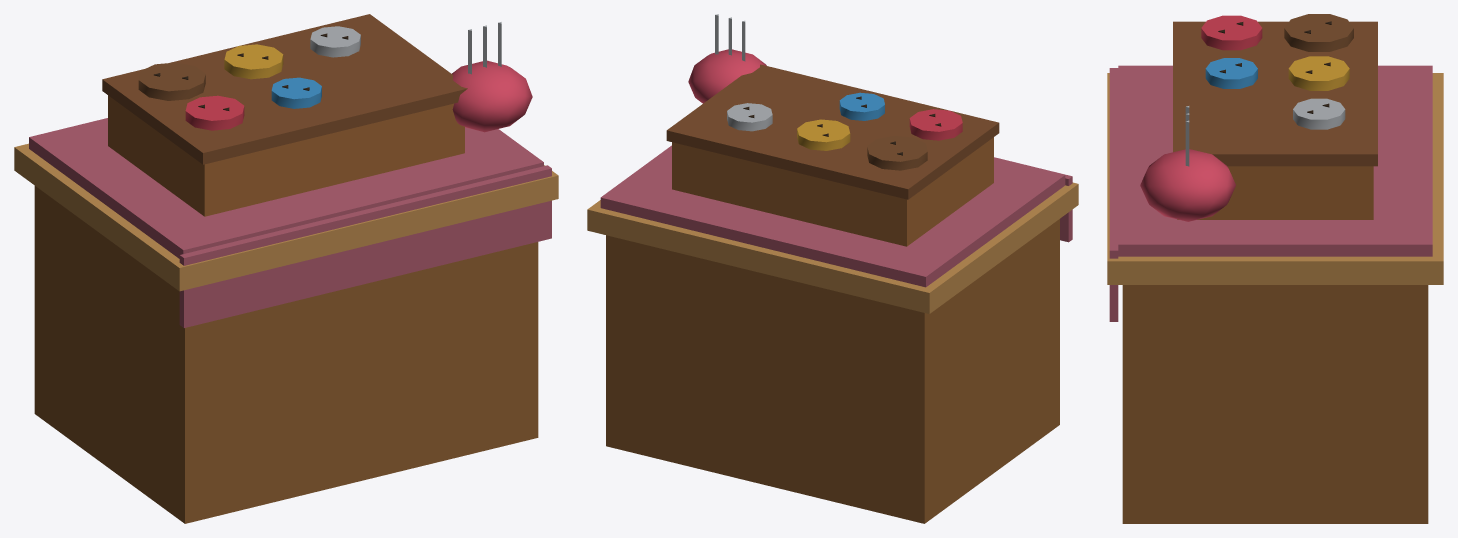
The model's file is buttons_display.glb.
3 renders of one model, left to right at view 1: azimuth 30°, elevation 25°; view 2: azimuth 150°, elevation 25°; view 3: azimuth 270°, elevation 25°, orthographic. The views are drawn at different scales.
Visible parts, largest first — view 1: decor-buttons_display; view 2: decor-buttons_display; view 3: decor-buttons_display.
Boxes of the visible parts, bbox=[...] form: decor-buttons_display: bbox=[14, 14, 558, 523]; decor-buttons_display: bbox=[587, 14, 1078, 523]; decor-buttons_display: bbox=[1107, 14, 1443, 523].
Bounding box in the file's own units: 1.04 × 1.01 × 0.7699.
